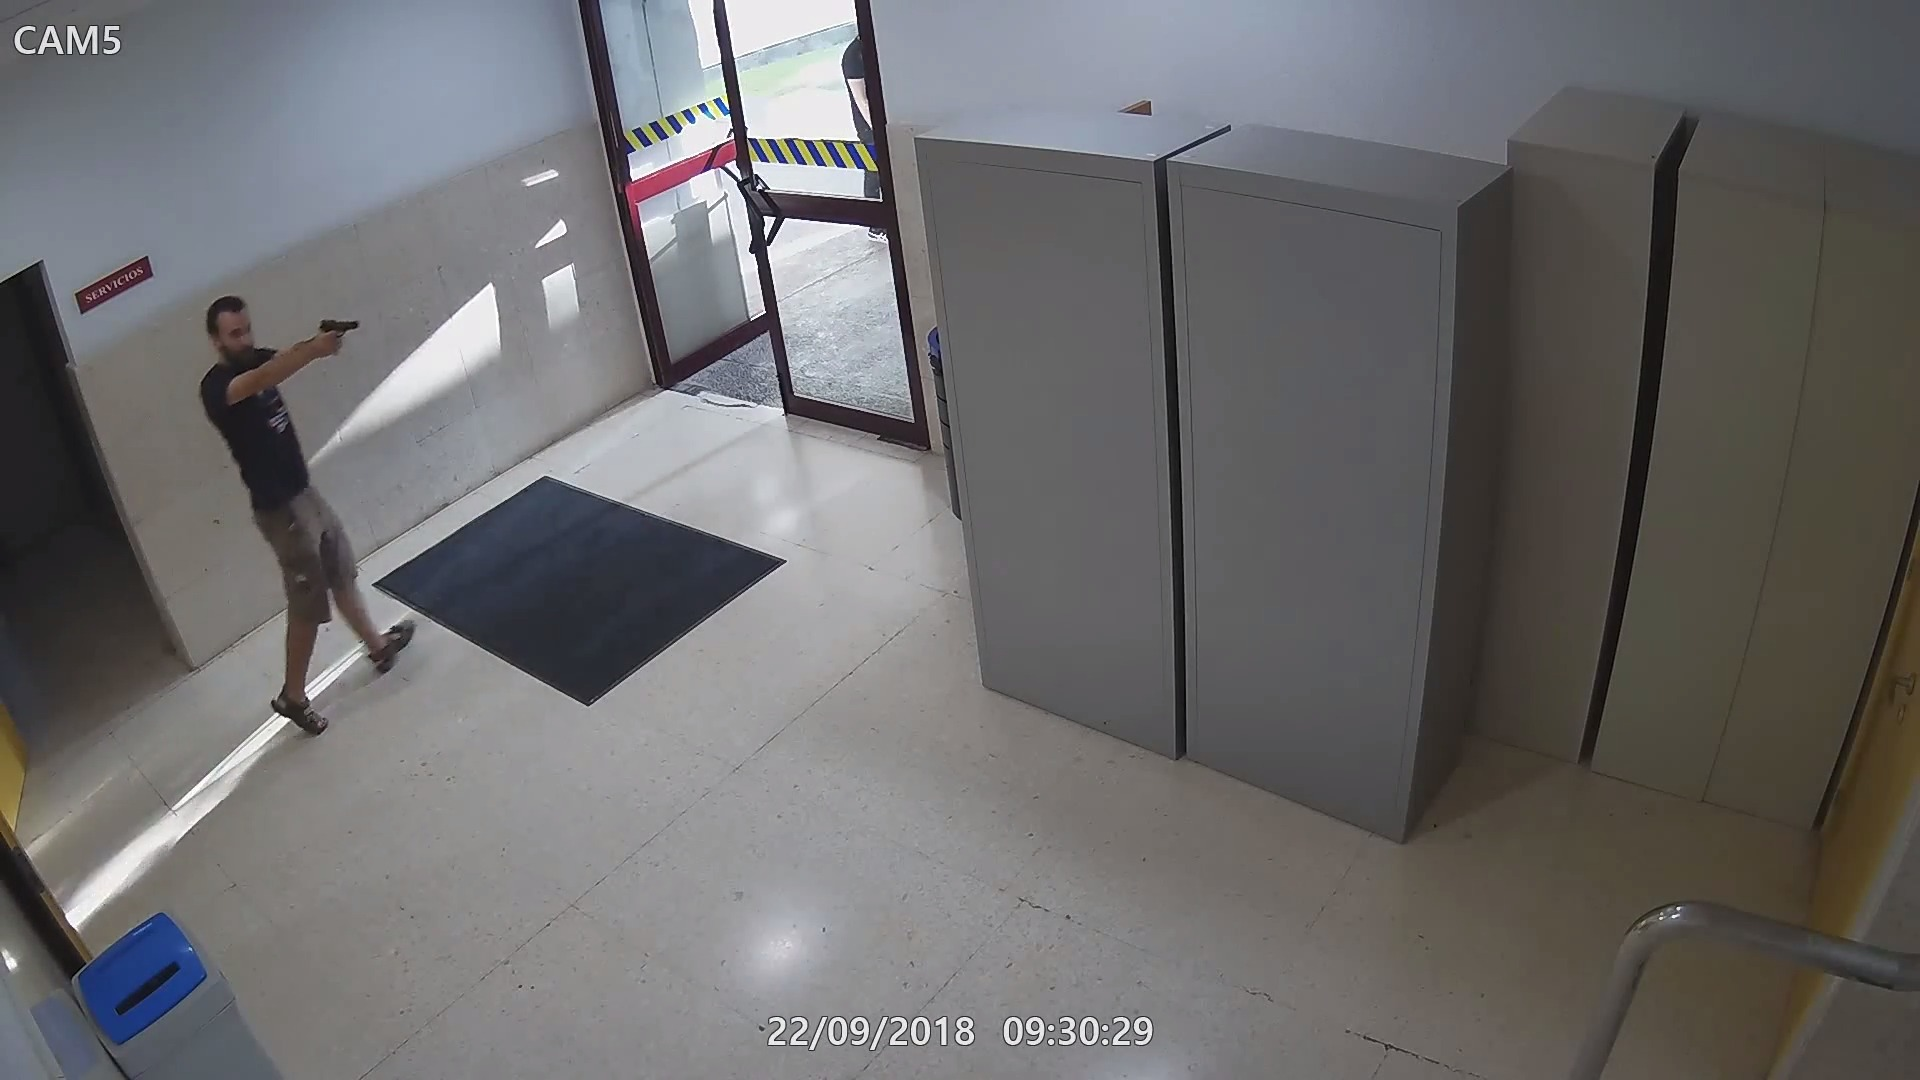pistol: (306, 313, 363, 363)
